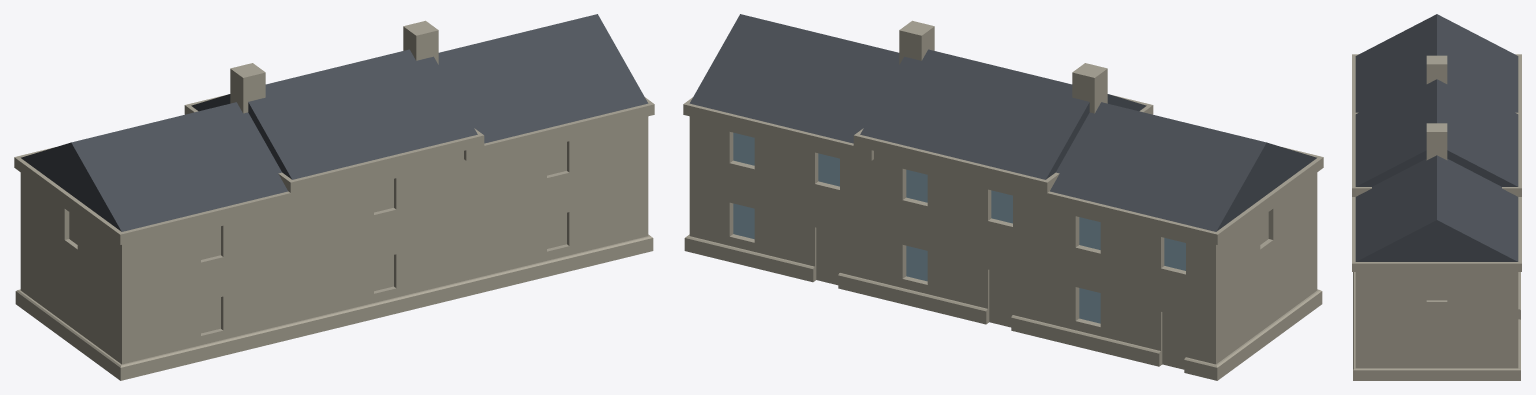
The picture shows the model from 3 angles, left to right: view 1: azimuth 30°, elevation 25°; view 2: azimuth 150°, elevation 25°; view 3: azimuth 270°, elevation 25°; orthographic projection. The views are drawn at different scales.
Visible parts, largest first — view 1: body_stone, roof_slate, trim_stone; view 2: body_stone, roof_slate, trim_stone, glass_glass (×9); view 3: roof_slate, body_stone, trim_stone.
Part boxes in pixels (left/top/right/bottom): body_stone: left=20, top=20, right=648, bottom=364; roof_slate: left=21, top=14, right=648, bottom=231; trim_stone: left=14, top=95, right=654, bottom=380; body_stone: left=689, top=20, right=1317, bottom=369; roof_slate: left=689, top=14, right=1316, bottom=231; trim_stone: left=683, top=95, right=1323, bottom=380; glass_glass (×9): left=733, top=132, right=1185, bottom=323; roof_slate: left=1355, top=14, right=1518, bottom=261; body_stone: left=1355, top=55, right=1518, bottom=368; trim_stone: left=1352, top=54, right=1521, bottom=380.
Size of what is drawn, in the model's own units: 21.32 by 8.7 by 7.32.
